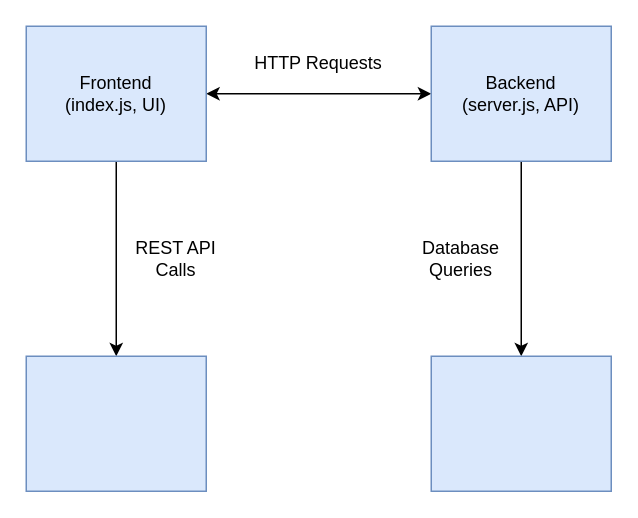
Image size: 638x518. Some labels were removed from this diagram. Each missing label, with the centre of its shape:
"Database (db.js)" goes at (520,423).
"User's Browser" goes at (115,423).
